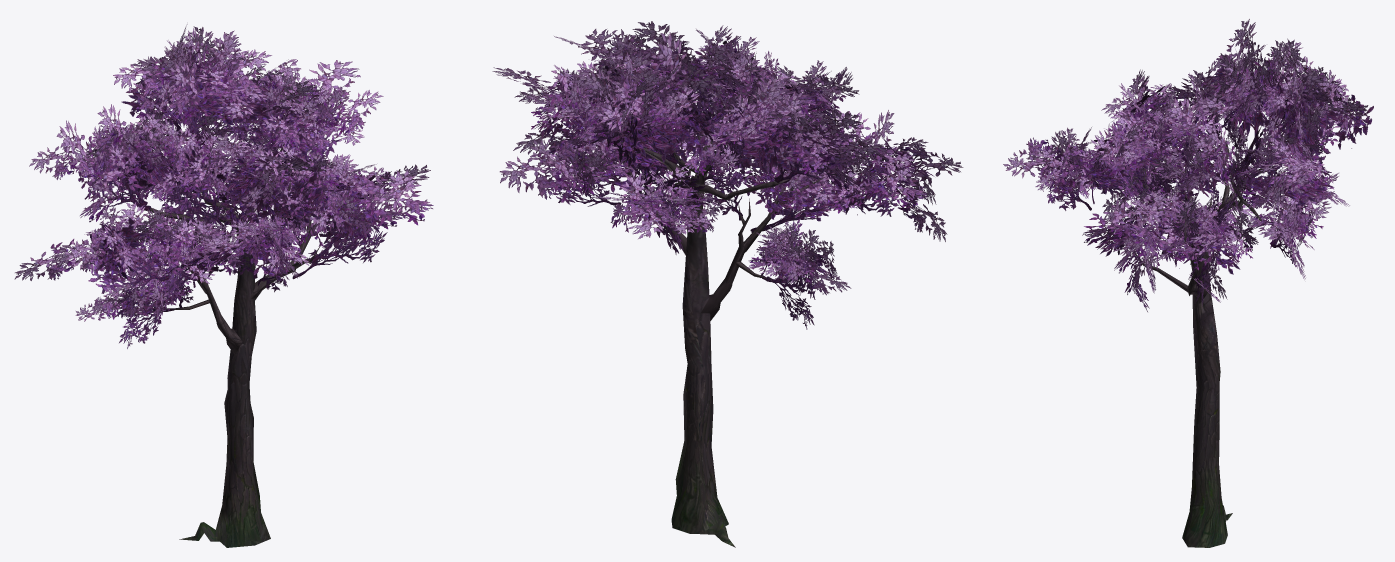
File: XSZY_tree6.fbx
3 renders of one model, left to right at view 1: azimuth 30°, elevation 25°; view 2: azimuth 150°, elevation 25°; view 3: azimuth 270°, elevation 25°, orthographic. The views are drawn at different scales.
Visible parts, largest first — view 1: XSZY_tree6, XSZY_tree6_1; view 2: XSZY_tree6, XSZY_tree6_1; view 3: XSZY_tree6, XSZY_tree6_1.
Boxes of the visible parts, x1,y1,x2,y2 form: XSZY_tree6: (14,24,433,348); XSZY_tree6_1: (150,136,344,547); XSZY_tree6: (492,21,963,329); XSZY_tree6_1: (547,53,825,547); XSZY_tree6: (1003,19,1373,311); XSZY_tree6_1: (1101,125,1269,547).
Size of the model in its own units: 1.69 by 1.96 by 1.37.
